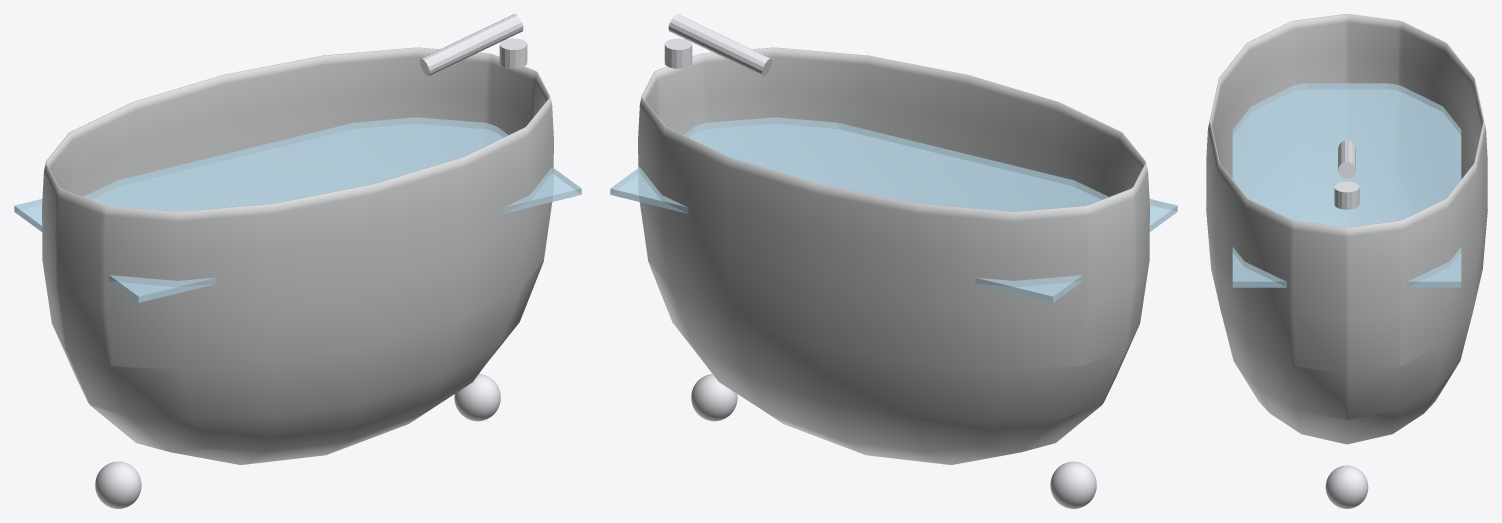
The model's file is bathtub.glb.
3 renders of one model, left to right at view 1: azimuth 30°, elevation 25°; view 2: azimuth 150°, elevation 25°; view 3: azimuth 270°, elevation 25°, orthographic. The views are drawn at different scales.
Parts seen in each view (by area): view 1: Bathtub_Shell, Bathtub_WaterSurface, Bathtub_FaucetSpout, Bathtub_Foot_-0.3, Bathtub_Foot_0.3, Bathtub_FaucetBase; view 2: Bathtub_Shell, Bathtub_WaterSurface, Bathtub_FaucetSpout, Bathtub_Foot_-0.3, Bathtub_Foot_0.3, Bathtub_FaucetBase; view 3: Bathtub_Shell, Bathtub_WaterSurface, Bathtub_Foot_0.3, Bathtub_FaucetBase, Bathtub_FaucetSpout.
Boxes of the visible parts, bbox=[...] form: Bathtub_Shell: bbox=[42, 47, 553, 464]; Bathtub_WaterSurface: bbox=[14, 117, 581, 302]; Bathtub_FaucetSpout: bbox=[419, 14, 523, 75]; Bathtub_Foot_-0.3: bbox=[95, 461, 141, 508]; Bathtub_Foot_0.3: bbox=[454, 374, 500, 421]; Bathtub_FaucetBase: bbox=[499, 38, 527, 68]; Bathtub_Shell: bbox=[638, 47, 1149, 464]; Bathtub_WaterSurface: bbox=[610, 117, 1177, 302]; Bathtub_FaucetSpout: bbox=[668, 14, 772, 75]; Bathtub_Foot_-0.3: bbox=[1050, 461, 1096, 508]; Bathtub_Foot_0.3: bbox=[691, 374, 737, 421]; Bathtub_FaucetBase: bbox=[664, 38, 692, 68]; Bathtub_Shell: bbox=[1206, 14, 1487, 444]; Bathtub_WaterSurface: bbox=[1232, 83, 1461, 287]; Bathtub_Foot_0.3: bbox=[1325, 465, 1368, 508]; Bathtub_FaucetBase: bbox=[1334, 181, 1359, 209]; Bathtub_FaucetSpout: bbox=[1338, 140, 1355, 178].
Bounding box in the file's own units: 0.808 × 0.6305 × 0.4441.
